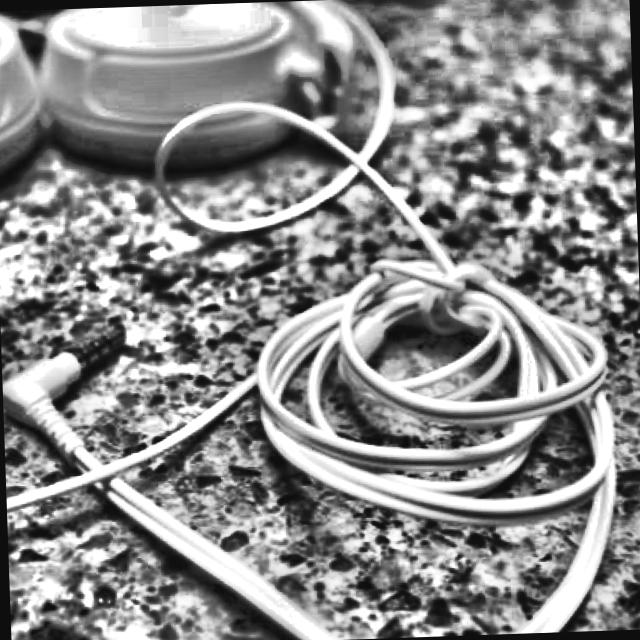Cable: (0, 92, 614, 640)
